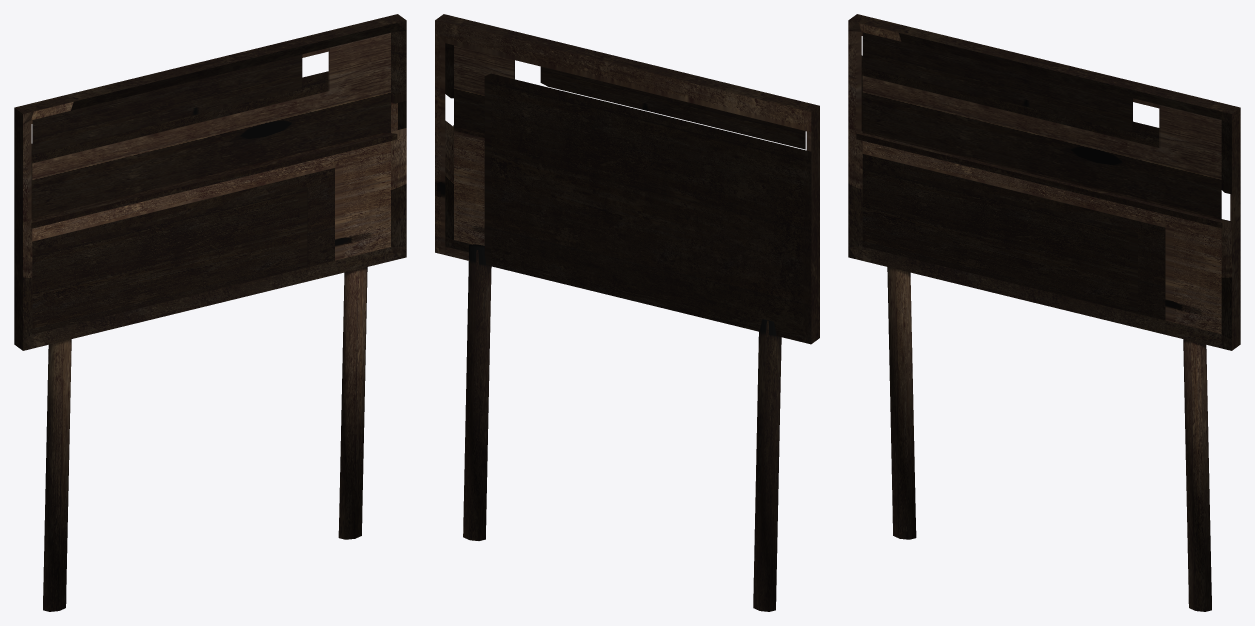
File: obstacle_top.fbx
3 views of the same model, side by side, from view 1: azimuth 30°, elevation 25°; view 2: azimuth 150°, elevation 25°; view 3: azimuth 330°, elevation 25° (orthographic).
Parts seen in each view (by area): view 1: Obstacle_Top, Poles; view 2: Obstacle_Top, Poles; view 3: Obstacle_Top, Poles.
Boxes of the visible parts, <box> form: Obstacle_Top: <box>14,14,406,350</box>; Poles: <box>43,267,367,611</box>; Obstacle_Top: <box>435,14,819,344</box>; Poles: <box>463,244,781,611</box>; Obstacle_Top: <box>848,14,1240,350</box>; Poles: <box>887,267,1211,611</box>.
Size of the model in its own units: 5.72 by 0.4513 by 7.31.
